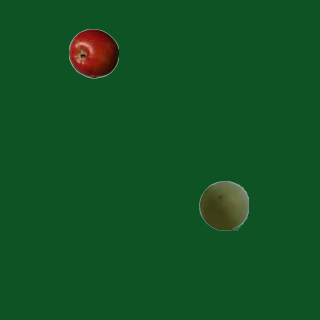Apple Braeburn: (68, 28, 118, 78)
Grape White 4: (198, 180, 248, 230)
